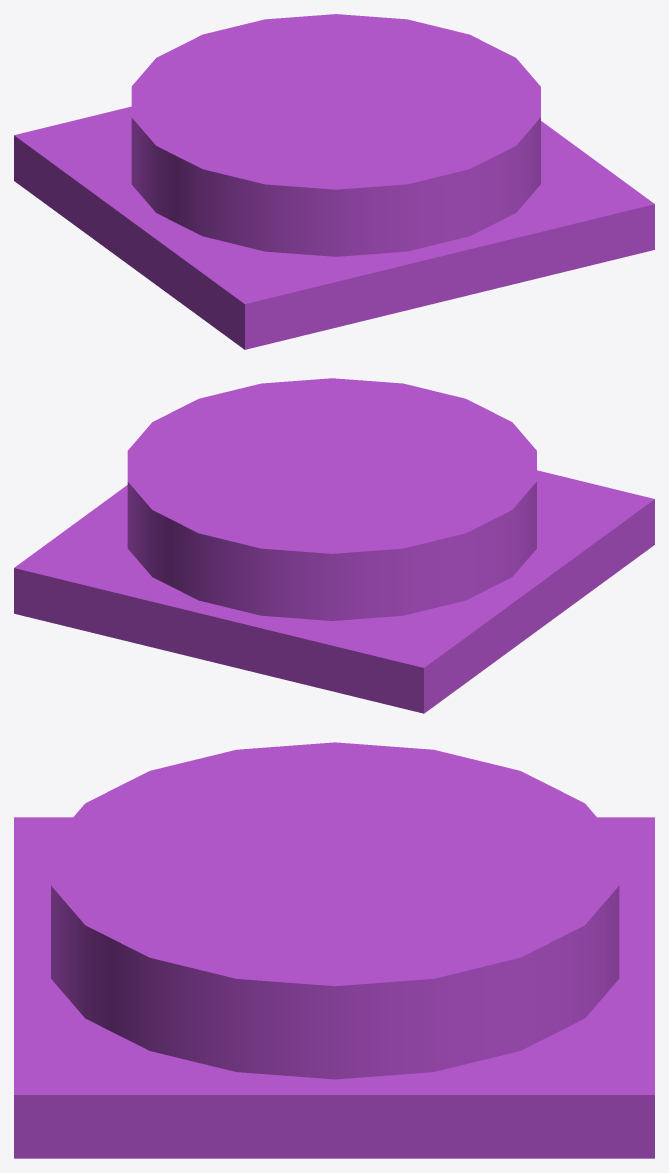
Rendered from boton.obj.
The picture shows the model from 3 angles, top to bottom: view 1: azimuth 30°, elevation 25°; view 2: azimuth 150°, elevation 25°; view 3: azimuth 270°, elevation 25°; orthographic projection. The views are drawn at different scales.
Visible parts, largest first — view 1: Box001; view 2: Box001; view 3: Box001.
Boxes of the visible parts, x1=… form: Box001: x1=14, y1=14, x2=654, y2=349; Box001: x1=14, y1=378, x2=654, y2=713; Box001: x1=14, y1=742, x2=654, y2=1158.
Bounding box in the file's own units: 50.33 × 13.24 × 49.08.
